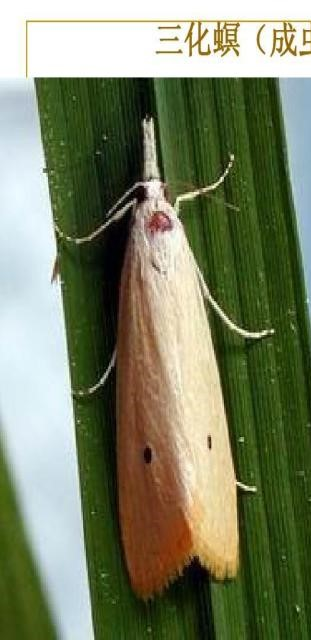yellow-stem-borer: (61, 109, 308, 588)
